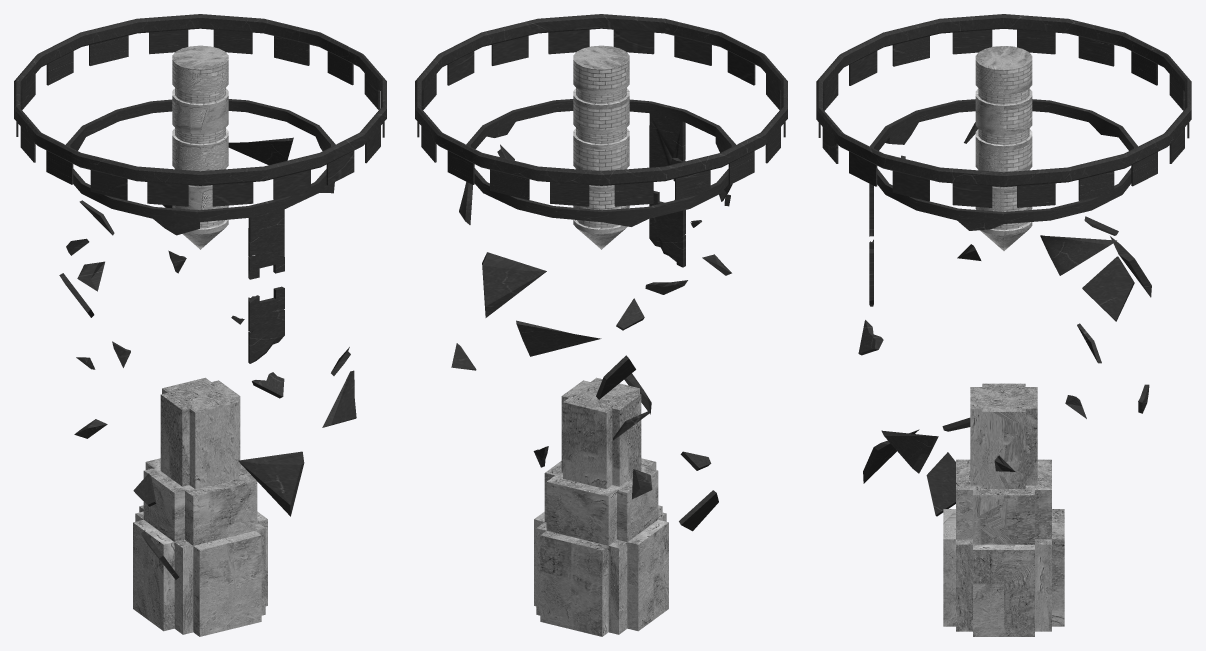
The model's file is tower_underfbx.fbx.
The picture shows the model from 3 angles, left to right: view 1: azimuth 30°, elevation 25°; view 2: azimuth 150°, elevation 25°; view 3: azimuth 270°, elevation 25°; orthographic projection.
Parts seen in each view (by area): view 1: daiza, wa_sita, wa_ue, daiza_cell.066, tower, wa_ue_cell.028, daiza_cell.023, daiza_cell.057, wa_ue_cell.030, daiza_cell.034, wa_ue_cell.022, wa_ue_cell.012 (+31 smaller); view 2: daiza, wa_ue, tower, wa_sita, wa_sita_cell.007, wa_sita_cell.027, wa_sita_cell.003, wa_sita_cell.009, daiza_cell.020, wa_ue_cell.015, daiza_cell.056, wa_sita_cell.019 (+6 smaller); view 3: daiza, wa_sita, wa_ue, tower, wa_ue_cell.021, daiza_cell.037, daiza_cell.063, wa_ue_cell.001, daiza_cell.070, daiza_cell.011, wa_ue_cell.049, daiza_cell.061 (+14 smaller).
Boxes of the visible parts, bbox=[...] form: daiza: bbox=[133, 379, 267, 636]; wa_sita: bbox=[63, 99, 356, 579]; wa_ue: bbox=[14, 16, 386, 206]; daiza_cell.066: bbox=[160, 548, 243, 604]; tower: bbox=[172, 45, 228, 249]; wa_ue_cell.028: bbox=[274, 25, 353, 85]; daiza_cell.023: bbox=[147, 503, 234, 563]; daiza_cell.057: bbox=[162, 598, 239, 636]; wa_ue_cell.030: bbox=[193, 167, 267, 203]; daiza_cell.034: bbox=[160, 478, 229, 521]; wa_ue_cell.022: bbox=[147, 14, 208, 53]; wa_ue_cell.012: bbox=[193, 14, 255, 54]; daiza: bbox=[534, 377, 668, 636]; wa_ue: bbox=[415, 14, 787, 206]; tower: bbox=[573, 45, 629, 249]; wa_sita: bbox=[451, 99, 735, 512]; wa_sita_cell.007: bbox=[629, 101, 681, 167]; wa_sita_cell.027: bbox=[482, 252, 522, 317]; wa_sita_cell.003: bbox=[475, 101, 573, 148]; wa_sita_cell.009: bbox=[574, 204, 664, 226]; daiza_cell.020: bbox=[604, 566, 648, 622]; wa_ue_cell.015: bbox=[431, 44, 474, 85]; daiza_cell.056: bbox=[587, 521, 652, 583]; wa_sita_cell.019: bbox=[649, 200, 685, 245]; daiza: bbox=[943, 383, 1064, 636]; wa_sita: bbox=[858, 100, 1151, 516]; wa_ue: bbox=[818, 17, 1191, 207]; tower: bbox=[975, 46, 1032, 250]; wa_ue_cell.021: bbox=[959, 14, 1047, 52]; daiza_cell.037: bbox=[992, 598, 1056, 636]; daiza_cell.063: bbox=[981, 553, 1036, 600]; wa_ue_cell.001: bbox=[1094, 27, 1158, 85]; daiza_cell.070: bbox=[986, 412, 1030, 463]; daiza_cell.011: bbox=[1006, 492, 1050, 560]; wa_ue_cell.049: bbox=[876, 151, 965, 188]; daiza_cell.061: bbox=[943, 596, 997, 636].
Bounding box in the file's own units: 504 × 807 × 496.
